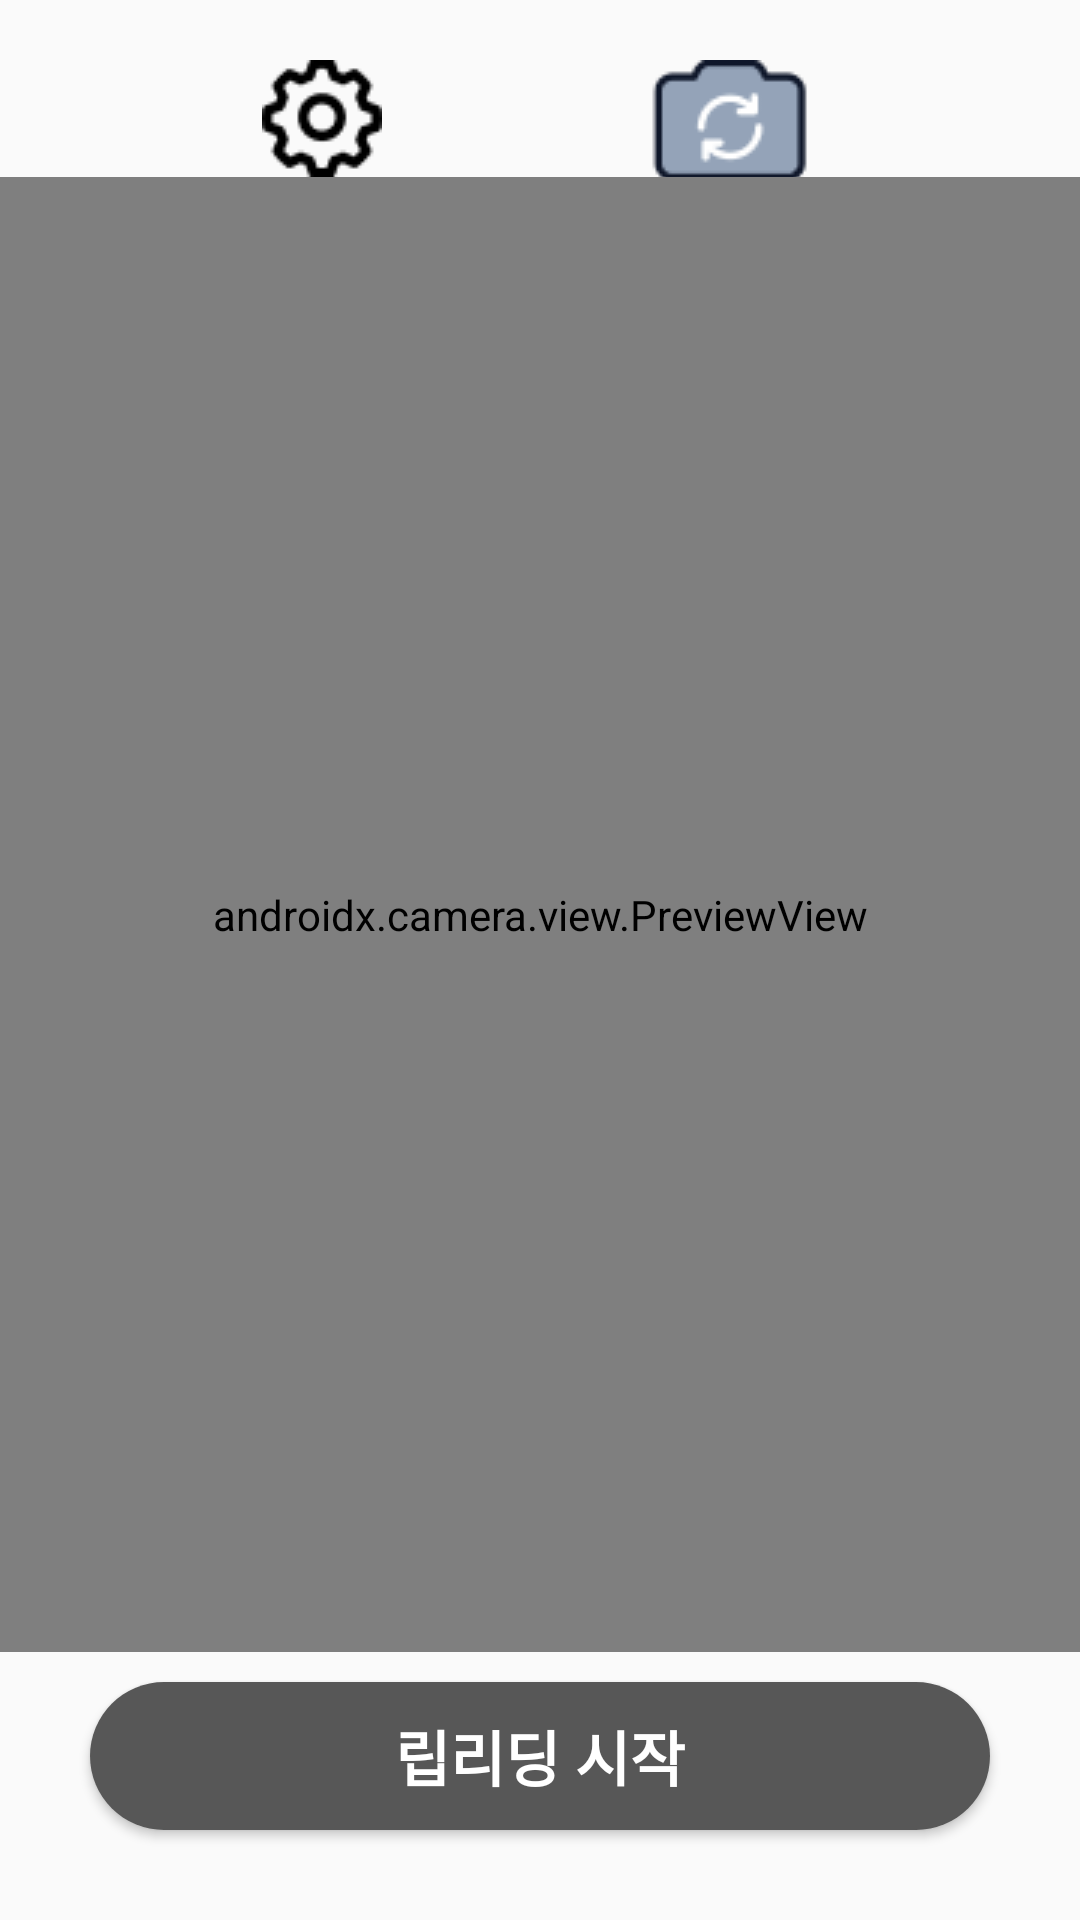

Icons on this 1080w x 1920h Android screen, each with the point to tap as (x=x, y=y):
camerachange: (x=731, y=120)
setting: (x=322, y=118)
